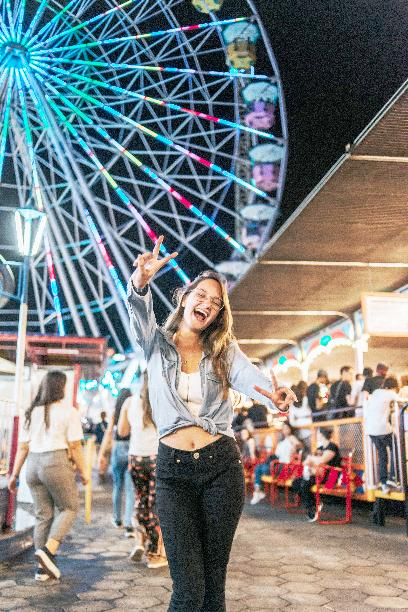Scissors: (131, 234, 181, 287)
